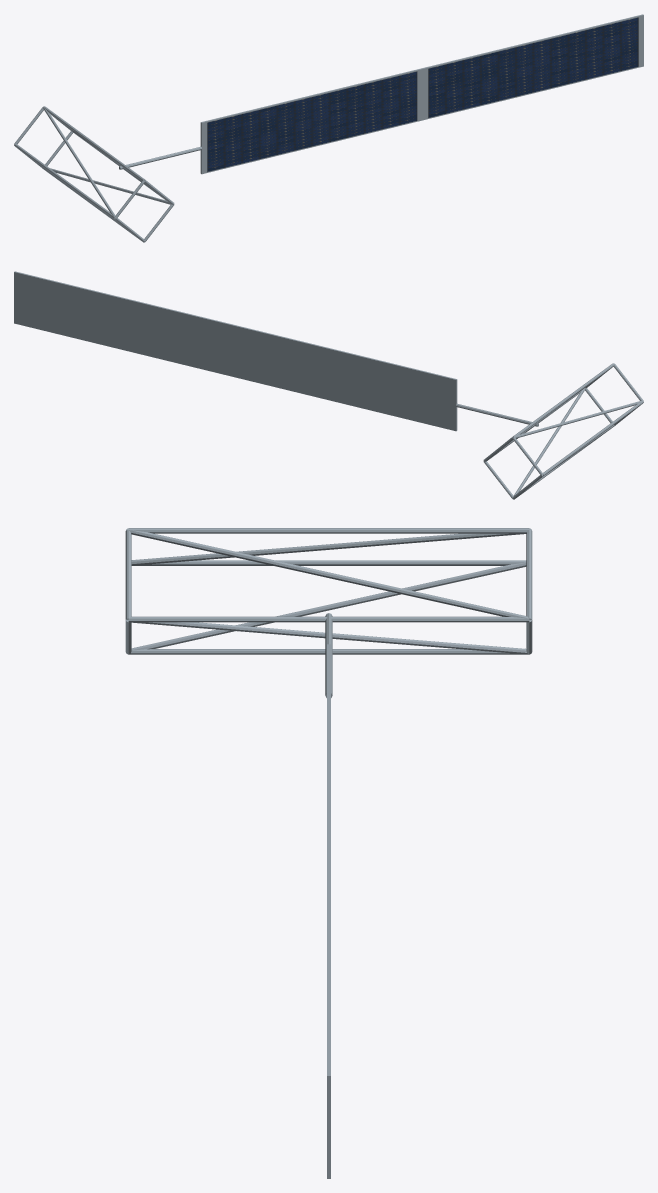
File: ref-lacrosse-28646.glb
3 views of the same model, one above another, from view 1: azimuth 30°, elevation 25°; view 2: azimuth 150°, elevation 25°; view 3: azimuth 270°, elevation 25° (orthographic). The views are drawn at different scales.
Parts seen in each view (by area): view 1: Photovoltaic laminates (×2), Array frame (×2), Structure (×4); view 2: Array frame (×2), Structure (×4); view 3: Structure (×8), Array frame.
Part boxes in pixels (<box>): Photovoltaic laminates (×2): <box>207,17,638,171</box>; Array frame (×2): <box>200,14,643,174</box>; Structure (×4): <box>14,106,170,218</box>; Array frame (×2): <box>14,271,457,431</box>; Structure (×4): <box>513,363,643,495</box>; Structure (×8): <box>128,528,529,654</box>; Array frame: <box>327,860,330,1178</box>.
Size of the model in its own units: 40.09 by 4.18 by 12.18.
2 materials, 1 textured.
